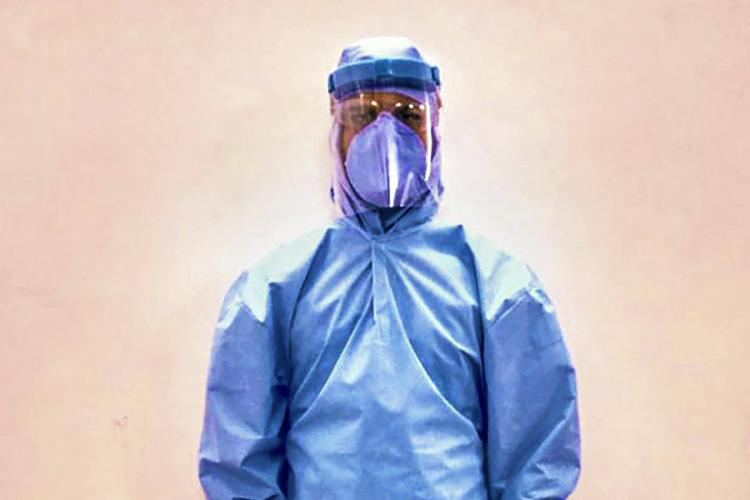Coverall: (204, 32, 581, 500)
Face_Shield: (328, 57, 449, 212)
Goggles: (332, 96, 442, 138)
with_mask: (347, 115, 431, 210)
